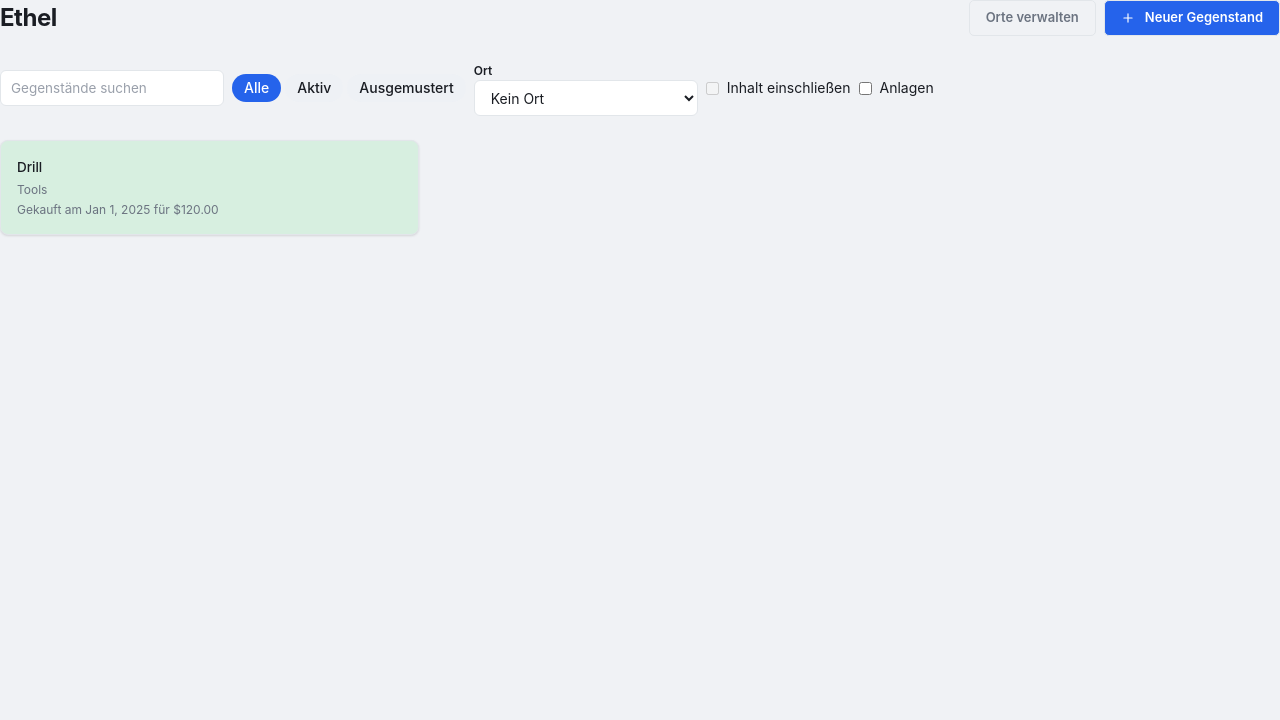
it: EthelPage in German › renders the page title, add-asset button, and asset detail (decommission action, TCO) in German
Expected: the heading "Ethel" is shown, [0, 2, 57, 34]
Expected: the button "Neuer Gegenstand" is shown, [1104, 0, 1279, 36]
Click the text "Drill": [30, 167] box [17, 159, 42, 175]
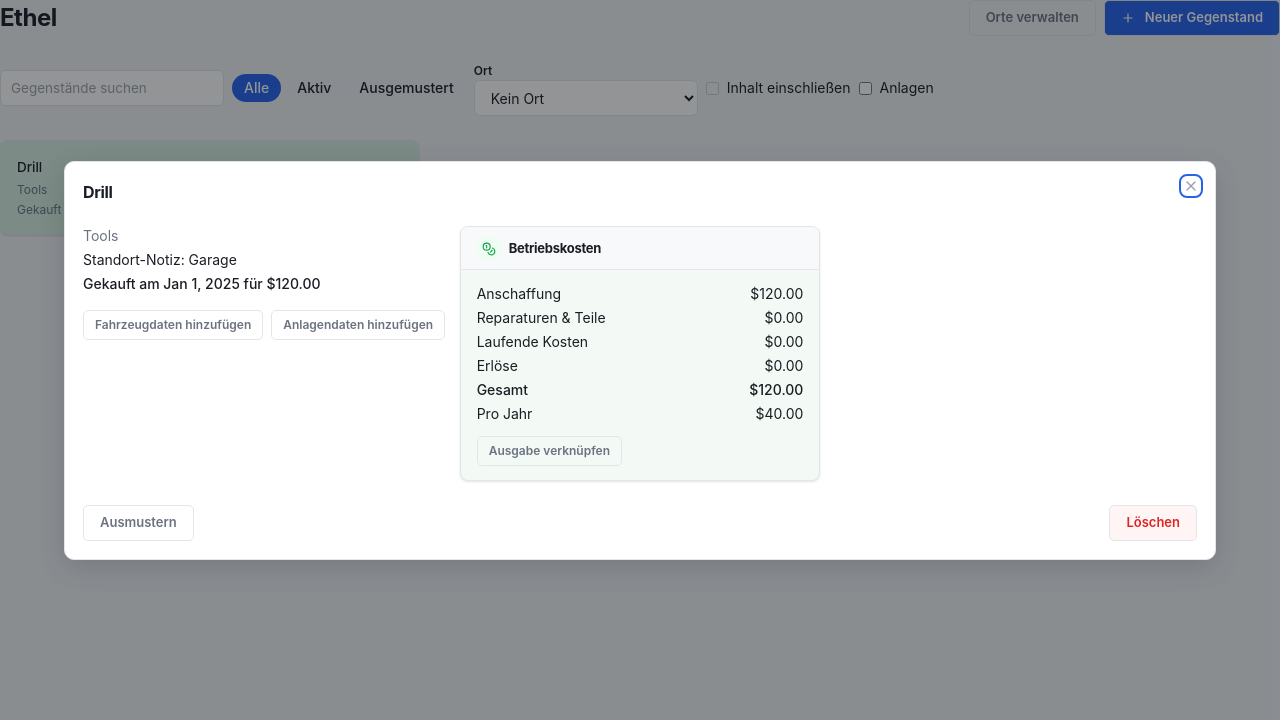
Expected: the button "Ausmustern" is shown, [83, 504, 194, 540]
Expected: the heading "Betriebskosten" is shown, [477, 236, 601, 260]
Expected: the text "Pro Jahr" is shown, [477, 404, 532, 424]
